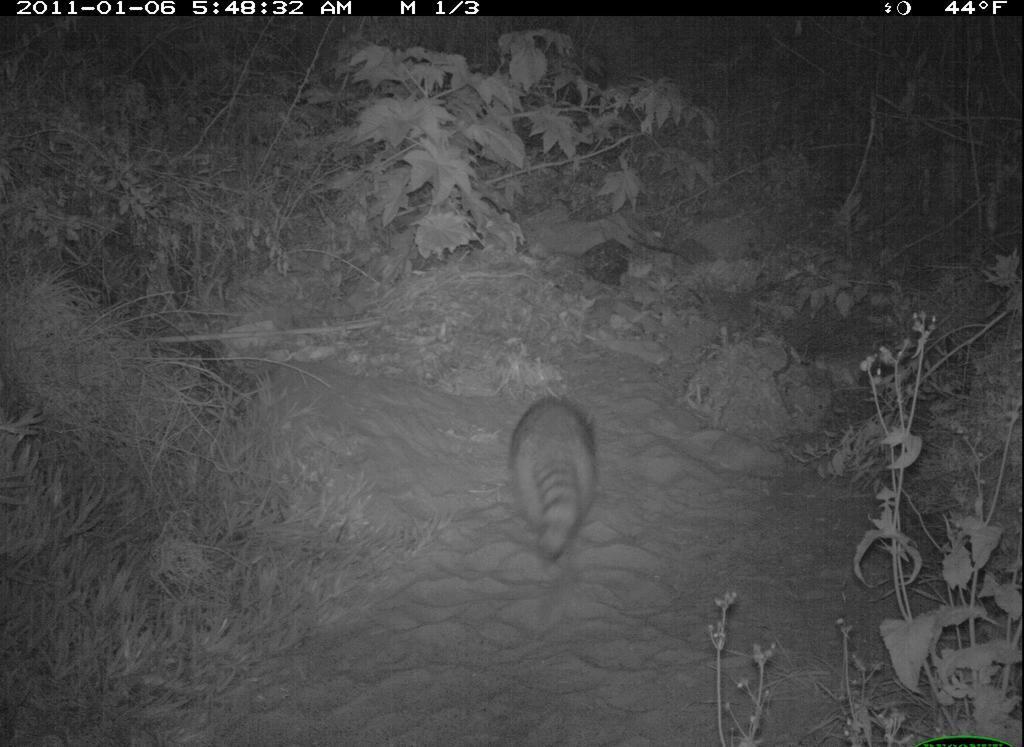raccoon: (504, 391, 607, 577)
